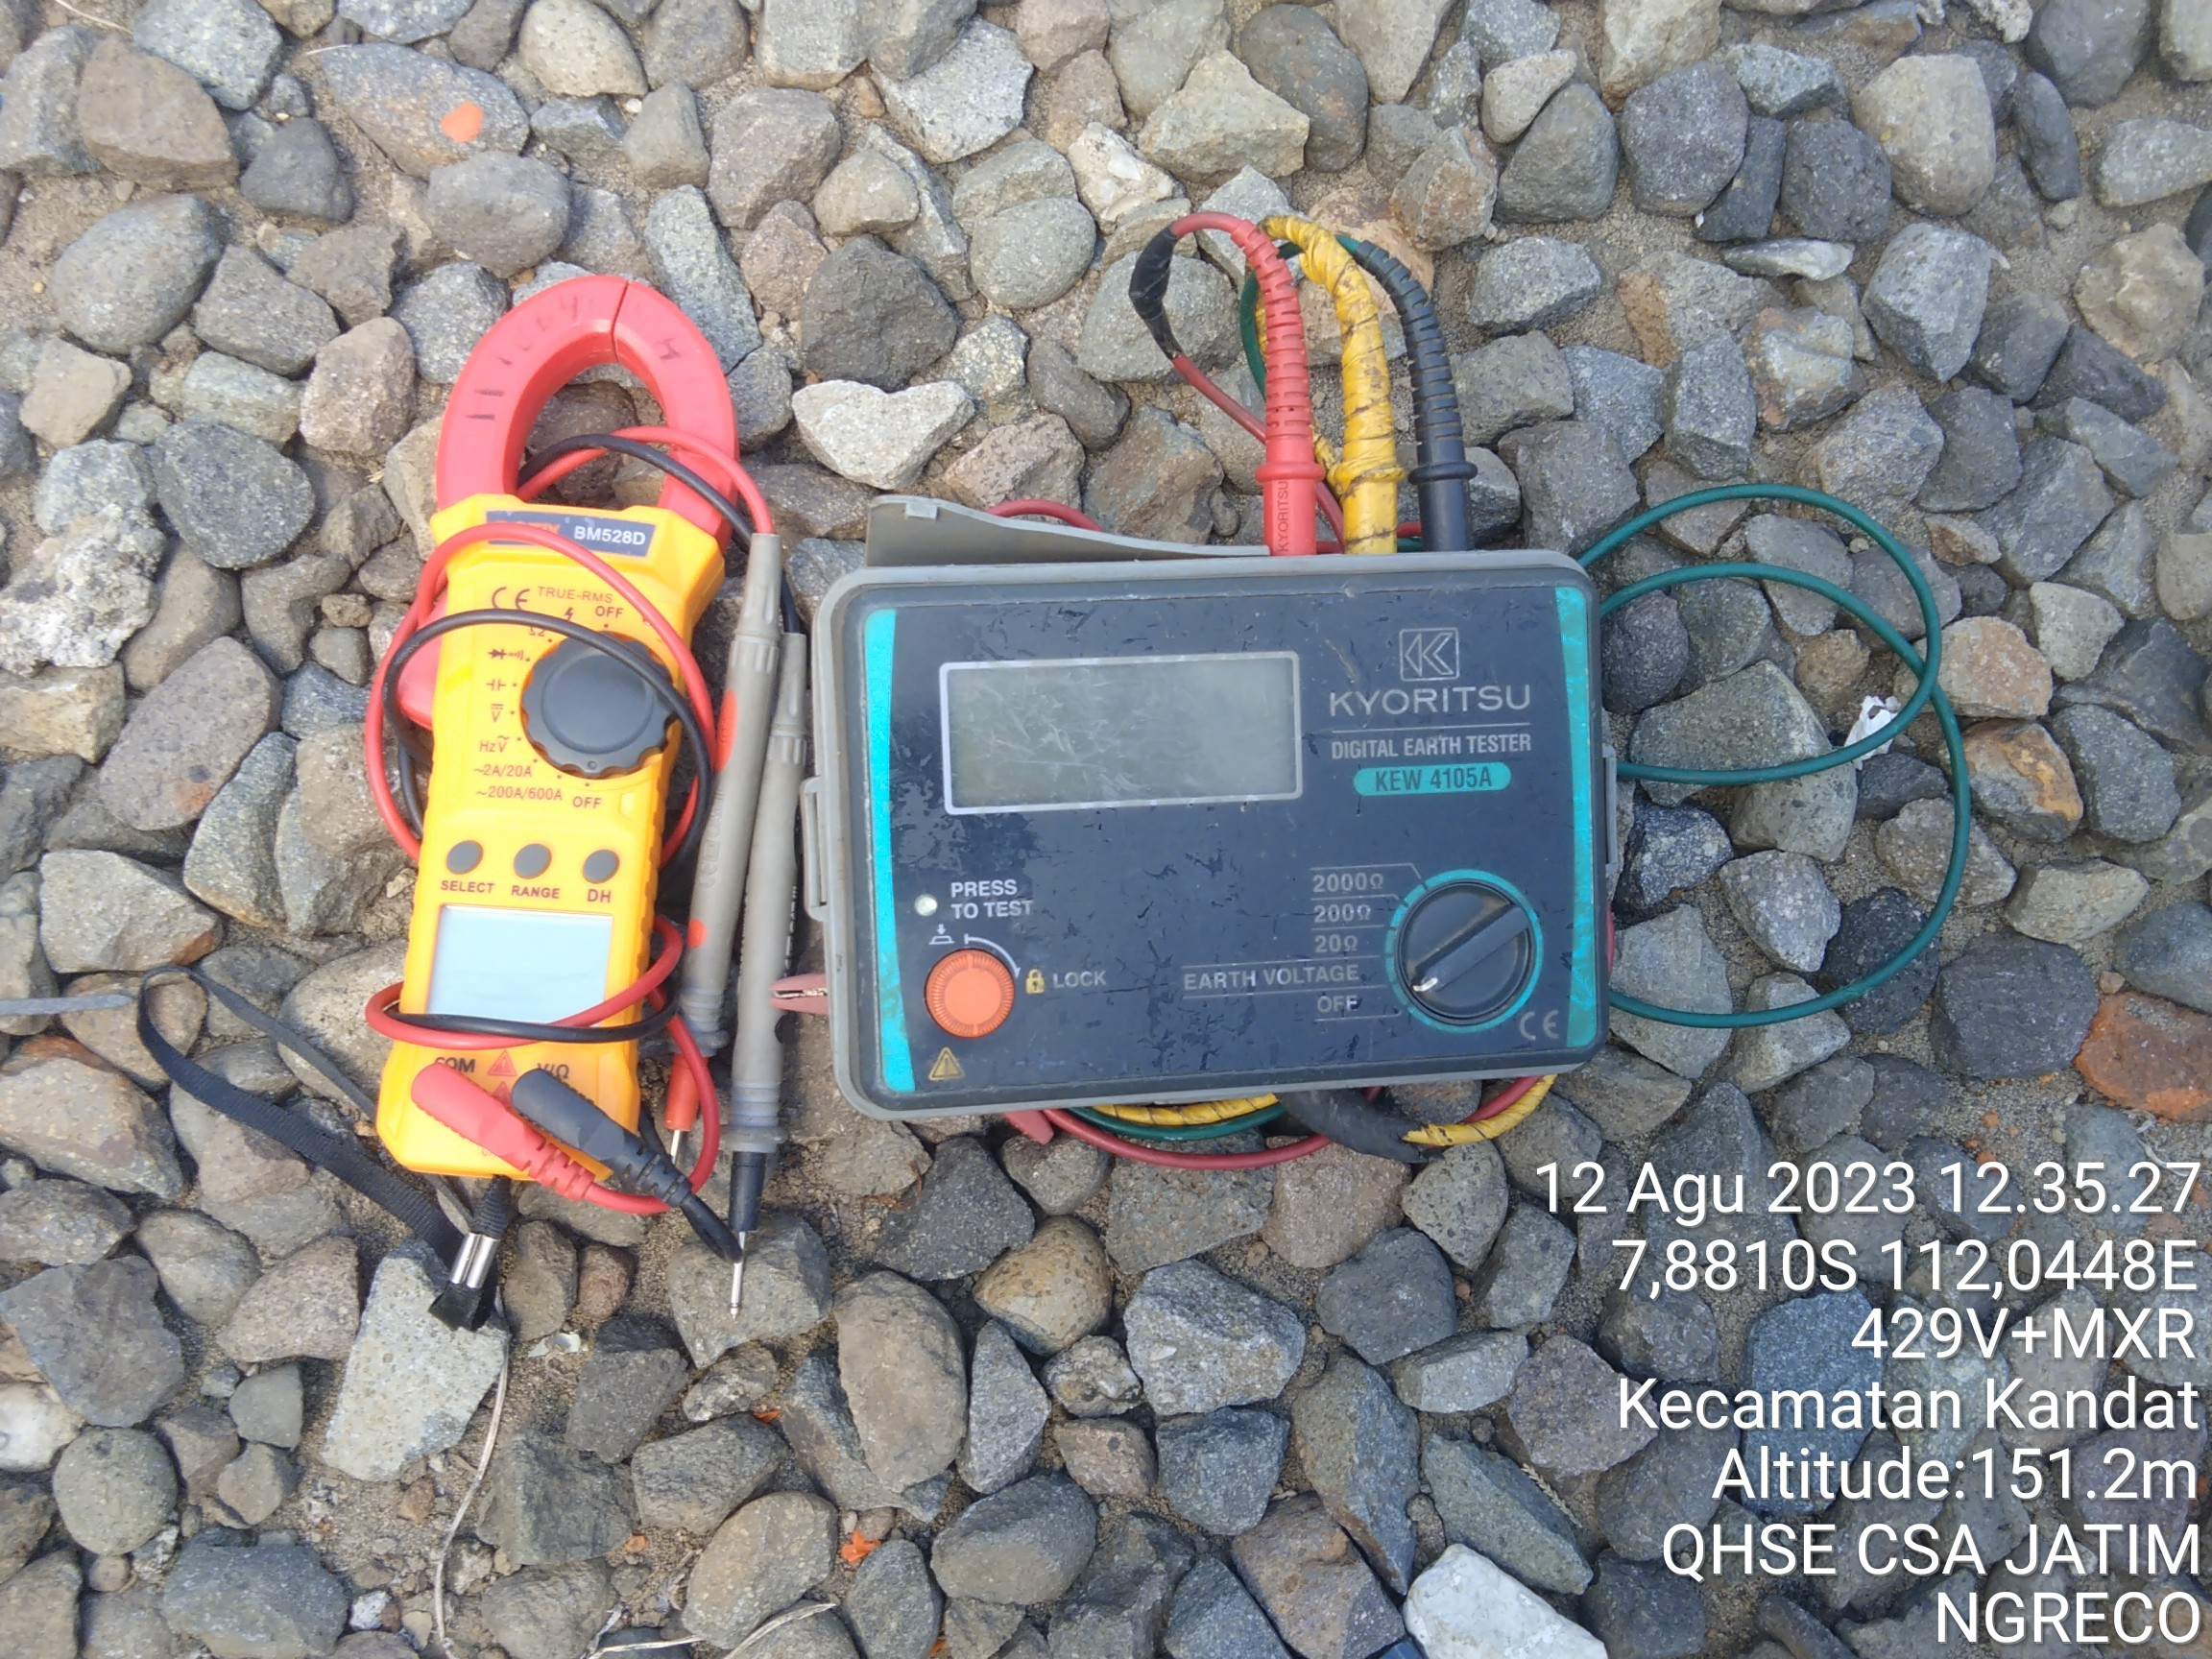EARTH_GROUNDING_TESTER: (813, 495, 1609, 1114)
TANG_AMPERE: (369, 272, 738, 1187)
